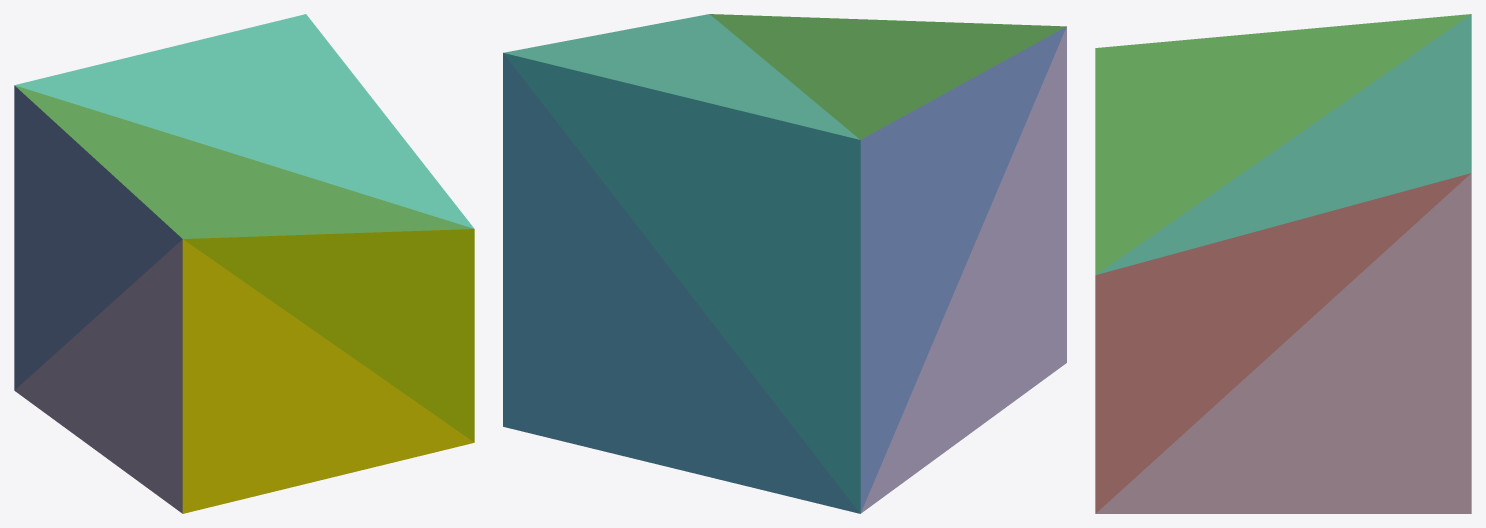
File: cube_dented_scaled.gltf
3 renders of one model, left to right at view 1: azimuth 30°, elevation 25°; view 2: azimuth 150°, elevation 25°; view 3: azimuth 270°, elevation 25°, orthographic. The views are drawn at different scales.
Parts seen in each view (by area): view 1: Cube.002; view 2: Cube.002; view 3: Cube.002.
Part boxes in pixels (<box>): Cube.002: <box>14,14,474,513</box>; Cube.002: <box>503,14,1066,513</box>; Cube.002: <box>1095,14,1471,513</box>.
Bounding box in the file's own units: 2 × 2 × 2.
